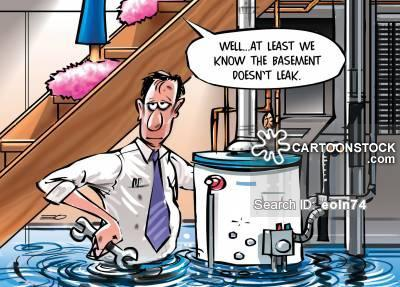person: (33, 68, 198, 286)
